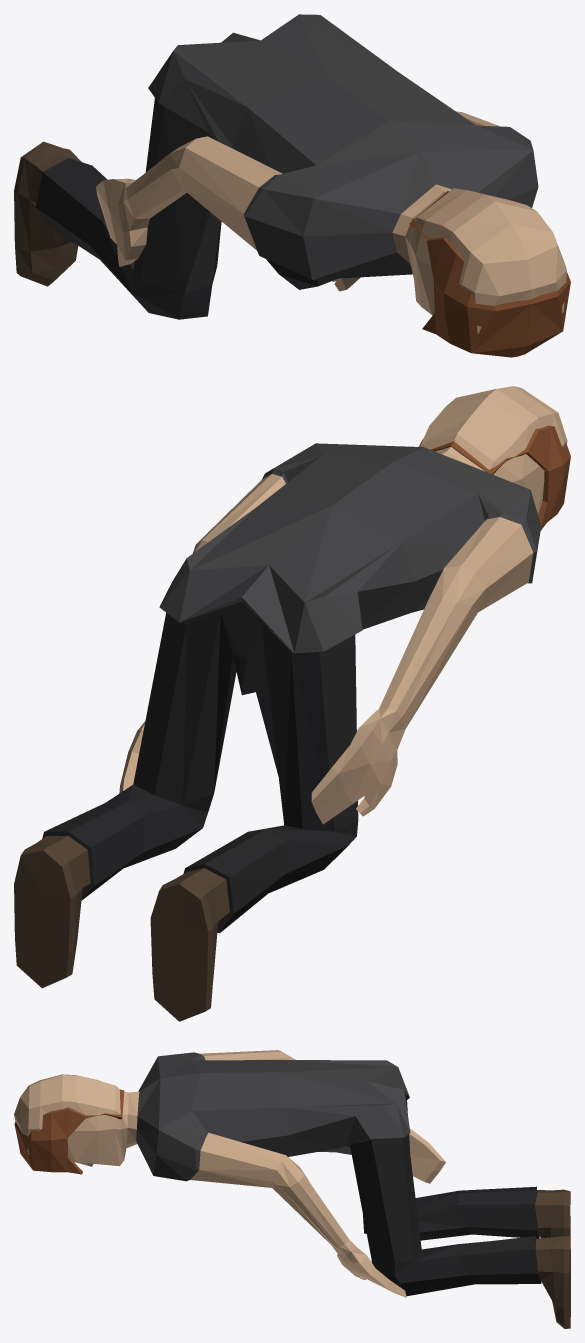
The model's file is man-sitting.obj.
3 views of the same model, one above another, from view 1: azimuth 30°, elevation 25°; view 2: azimuth 150°, elevation 25°; view 3: azimuth 270°, elevation 25° (orthographic). The views are drawn at different scales.
Visible parts, largest first — view 1: man-sitting; view 2: man-sitting; view 3: man-sitting.
Part boxes in pixels (x1,y1,x2,y2): man-sitting: (14,14,570,357); man-sitting: (14,386,570,1021); man-sitting: (14,1050,570,1328).
Bounding box in the file's own units: 23.13 × 26.28 × 57.24.
